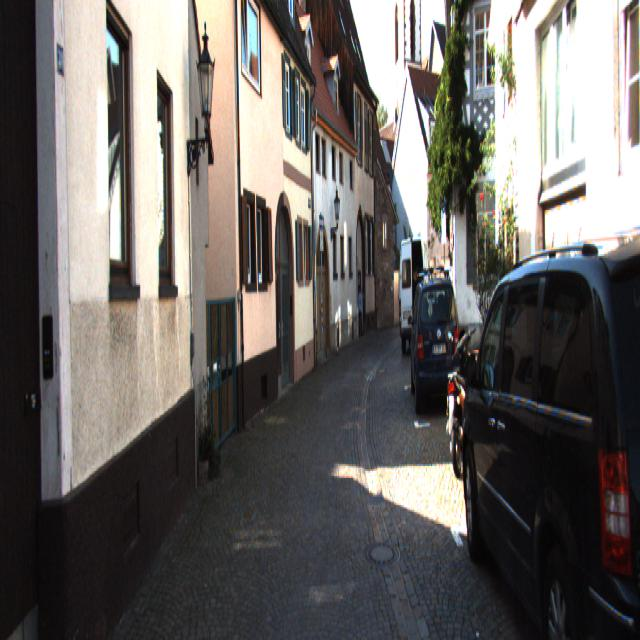Car: (456, 195, 640, 638), (410, 277, 460, 418), (442, 318, 477, 482), (398, 233, 436, 356)
